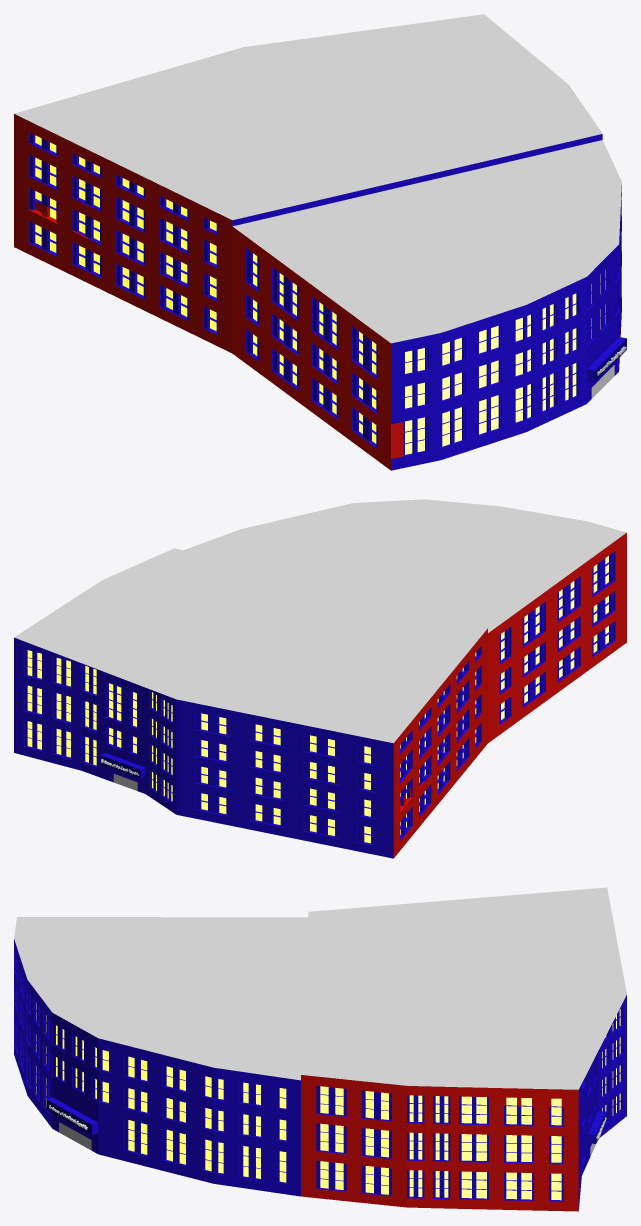
Rendered from pragueslava_complex.fbx.
3 renders of one model, top to bottom at view 1: azimuth 30°, elevation 25°; view 2: azimuth 150°, elevation 25°; view 3: azimuth 270°, elevation 25°, orthographic. The views are drawn at different scales.
Visible parts, largest first — view 1: pragueslava_complex; view 2: pragueslava_complex; view 3: pragueslava_complex.
Part boxes in pixels (box(x1,y1,x2,y2)): pragueslava_complex: box(14, 14, 626, 470); pragueslava_complex: box(14, 499, 626, 858); pragueslava_complex: box(14, 887, 626, 1211).
Bounding box in the file's own units: 1434 × 402 × 1836.
